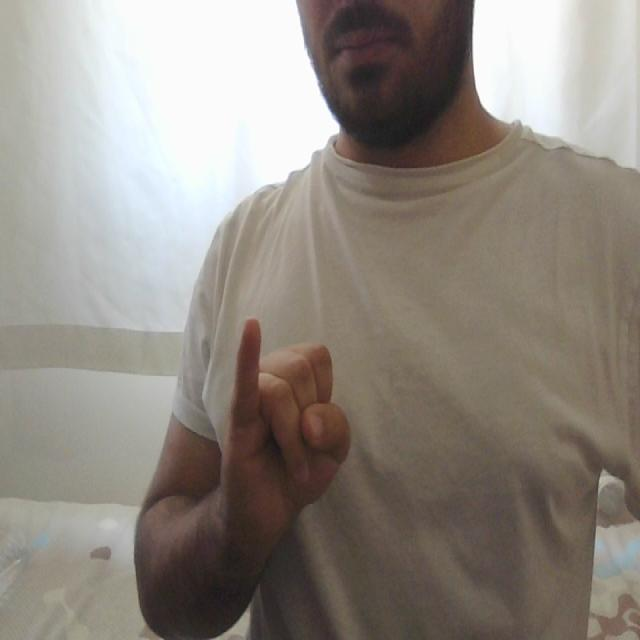kotu: (215, 304, 361, 504)
